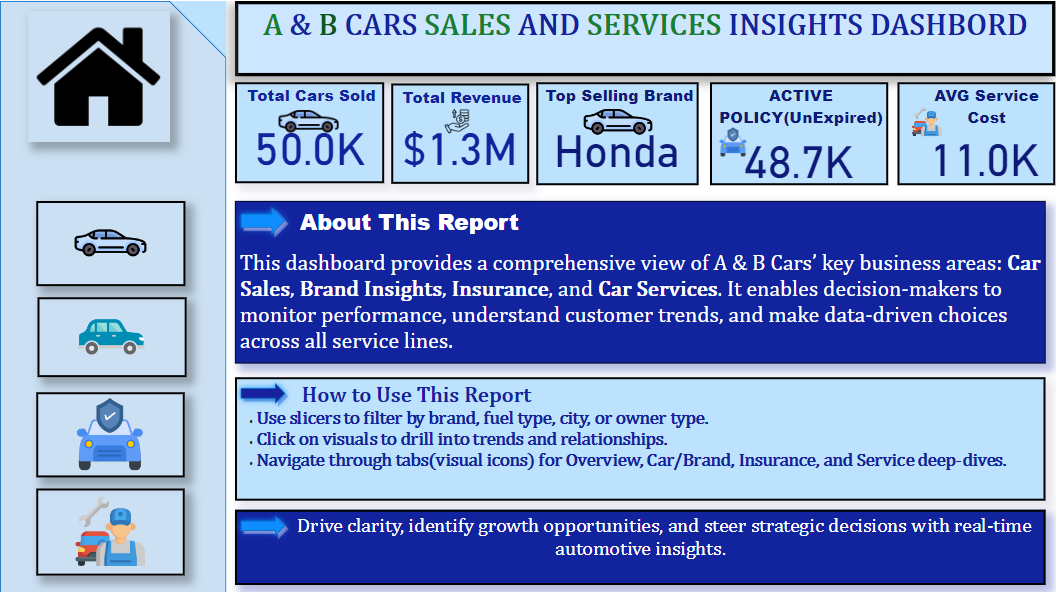

This screenshot's page, from the dashboard's own definition file:
{"tool":"powerbi","page":{"name":"HOME","canvas":[1280,720],"ordinal":0},"visuals":[{"type":"textbox","box":[285.5,0,994.2,91.3],"z":0},{"type":"shape","box":[0,0,274.2,719.7],"z":1000},{"type":"image","box":[43.5,242,181.2,102.9],"z":2000},{"type":"image","box":[44.9,359.4,181.2,97.1],"z":3000},{"type":"image","box":[43.5,591.3,179.7,105.8],"z":4000},{"type":"image","box":[43.5,473.9,179.7,102.9],"z":5000},{"type":"textbox","box":[285.5,242,982.6,197.1],"z":6000},{"type":"shape","box":[285.5,242,68.1,47.8],"z":7000},{"type":"card","title":"Total Cars Sold","fields":{"Values":["Count(public cars_master_data_sql.Car_ID)"]},"box":[284.1,100,181.2,123.2],"z":8000},{"type":"card","title":"Total Revenue","fields":{"Values":["Sum(public cars_master_data_sql.Sale_Price_Lakh)"]},"box":[465.2,100,175.4,123.2],"z":9000},{"type":"card","title":"Top Selling Brand","fields":{"Values":["Min(public cars_master_data_sql.Brand)"]},"box":[650.7,98.6,197.1,124.6],"z":10000},{"type":"image","box":[679.7,100,137.7,92.8],"z":11000},{"type":"card","title":"ACTIVE POLICY(UnExpired)","fields":{"Values":["Count(public cars_master_data_sql.Policy_Number)"]},"box":[860.9,98.6,215.9,124.6],"z":12000},{"type":"card","title":"AVG Service Cost","fields":{"Values":["Avg(public cars_master_data_sql.Service_Cost)"]},"box":[1088.4,98.6,191.3,124.6],"z":13000},{"type":"image","box":[1088.4,121.7,71,49.3],"z":14000},{"type":"image","box":[847.8,147.8,79.7,44.9],"z":15000},{"type":"image","box":[304.3,105.8,121.7,82.6],"z":16000},{"type":"image","box":[529,126.1,49.3,40.6],"z":17000},{"type":"textbox","box":[285.5,456.5,982.6,149.3],"z":17001},{"type":"textbox","box":[285.5,615.9,982.6,91.3],"z":17002},{"type":"shape","box":[285.5,615.9,68.1,39.1],"z":17003},{"type":"shape","box":[285.5,456.5,68.1,39.1],"z":17004},{"type":"image","box":[33.3,11.6,172.5,159.4],"z":17005}]}

Visuals, with their boxes in screenshot pixels (x1, y1, x2, y2), scaled from the page's 1280x720 canvas onto the 1060x592 screenshot:
textbox: BBox(236, 0, 1059, 75)
shape: BBox(0, 0, 227, 591)
image: BBox(36, 199, 186, 284)
image: BBox(37, 296, 187, 375)
image: BBox(36, 486, 185, 573)
image: BBox(36, 390, 185, 474)
textbox: BBox(236, 199, 1050, 361)
shape: BBox(236, 199, 293, 238)
"Total Cars Sold" card: BBox(235, 82, 385, 184)
"Total Revenue" card: BBox(385, 82, 530, 184)
"Top Selling Brand" card: BBox(539, 81, 702, 184)
image: BBox(563, 82, 677, 159)
"ACTIVE POLICY(UnExpired)" card: BBox(713, 81, 892, 184)
"AVG Service Cost" card: BBox(901, 81, 1059, 184)
image: BBox(901, 100, 960, 141)
image: BBox(702, 122, 768, 158)
image: BBox(252, 87, 353, 155)
image: BBox(438, 104, 479, 137)
textbox: BBox(236, 375, 1050, 498)
textbox: BBox(236, 506, 1050, 581)
shape: BBox(236, 506, 293, 539)
shape: BBox(236, 375, 293, 407)
image: BBox(28, 10, 170, 141)
